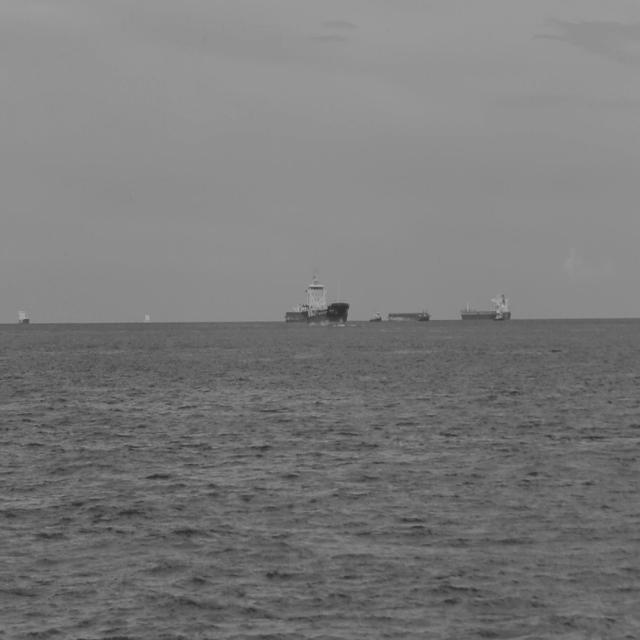ship: (284, 268, 353, 326), (460, 289, 512, 323), (384, 308, 429, 328), (14, 309, 28, 330)
